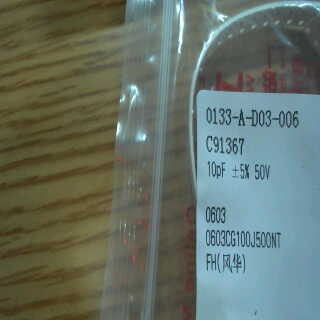10pF: (204, 155, 232, 181)
